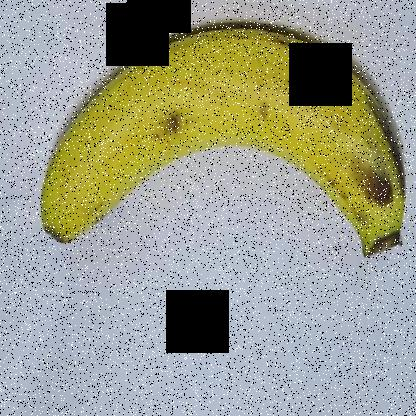freshripe: (43, 12, 404, 268)
